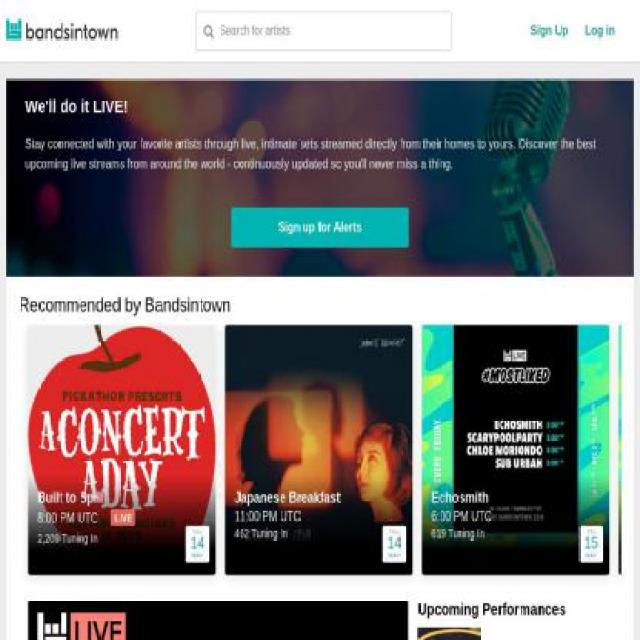button: (5, 19, 118, 44), (417, 627, 481, 639)
field: (195, 11, 452, 51)
